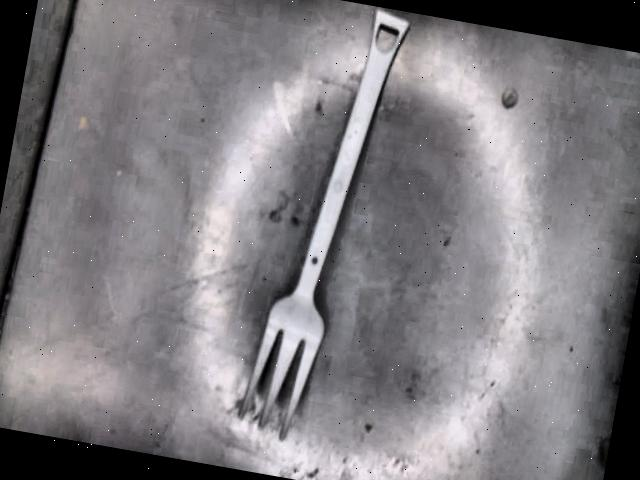Plastic: (240, 8, 409, 438)
